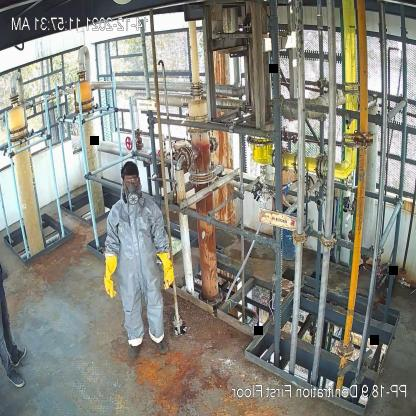goggles: (124, 176, 138, 186)
mask: (124, 185, 140, 207)
